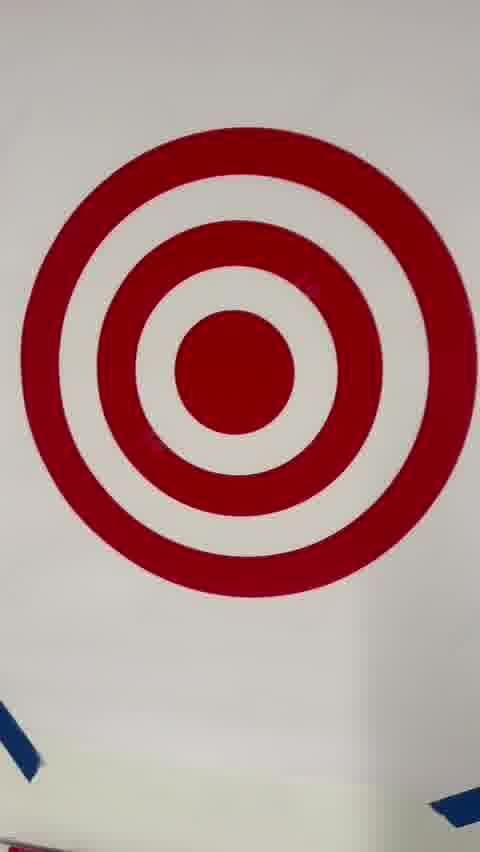target_red: (19, 130, 480, 600)
